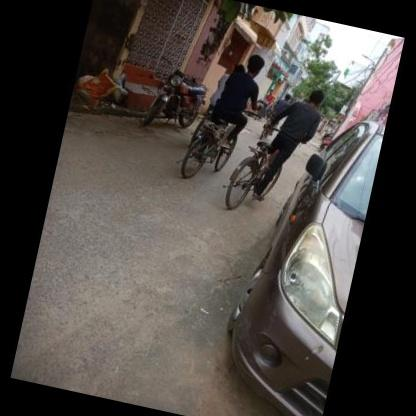Bicycle: (220, 117, 304, 217)
